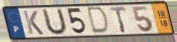5: (130, 5, 154, 33), (66, 7, 88, 36)
D: (87, 6, 110, 36)
K: (22, 10, 45, 36)
T: (109, 6, 128, 34)
U: (41, 8, 68, 37)
